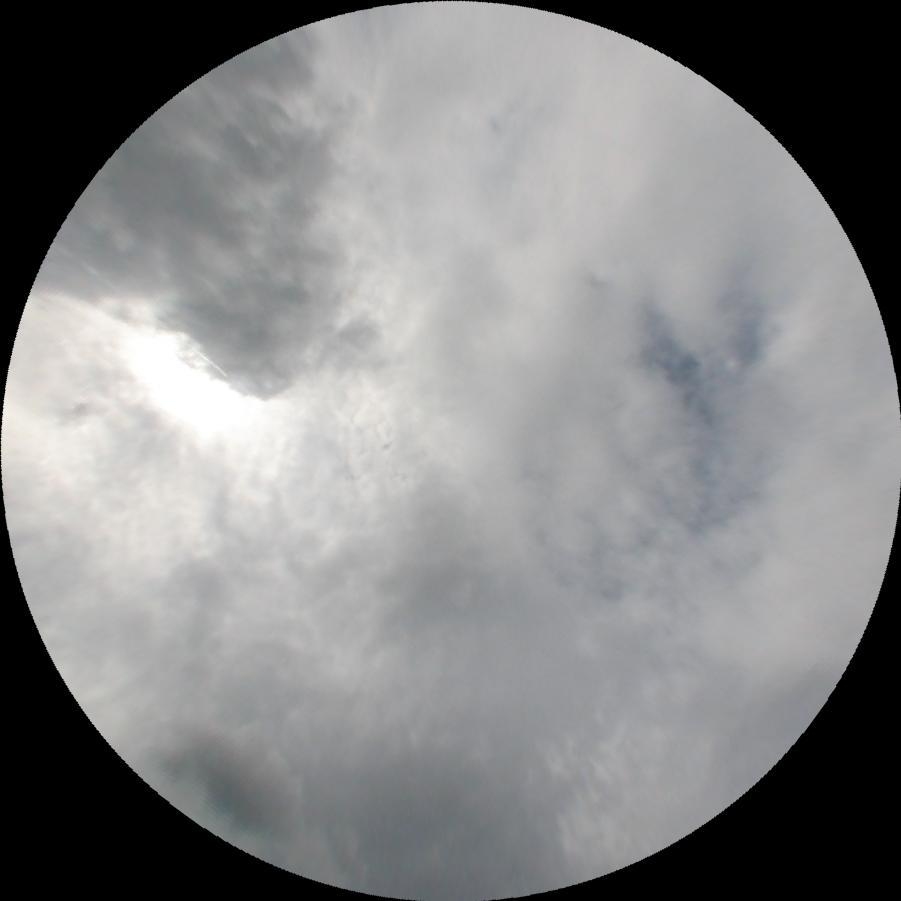parasite: (52, 240, 226, 375)
sun: (115, 328, 252, 446)
